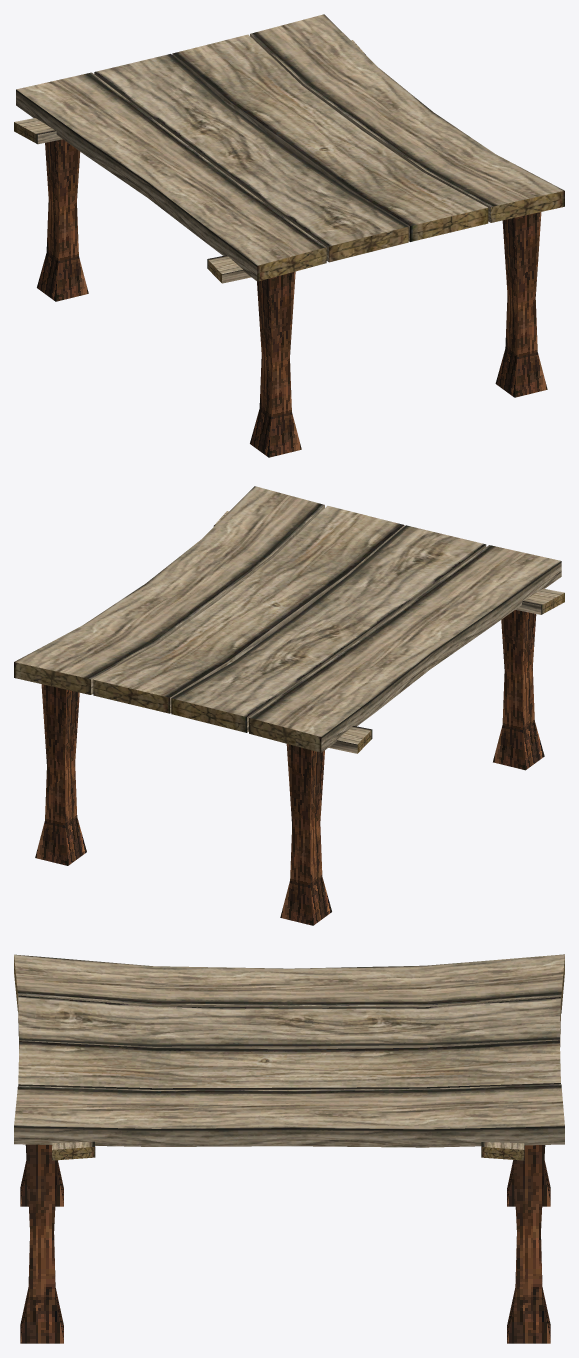
File: INST_LT_SM_TABLE.obj
3 renders of one model, top to bottom at view 1: azimuth 30°, elevation 25°; view 2: azimuth 150°, elevation 25°; view 3: azimuth 270°, elevation 25°, orthographic. The views are drawn at different scales.
Parts seen in each view (by area): view 1: _sm_table_LOD1_; view 2: _sm_table_LOD1_; view 3: _sm_table_LOD1_.
Boxes of the visible parts, x1,y1,x2,y2 form: _sm_table_LOD1_: (14, 14, 564, 457); _sm_table_LOD1_: (14, 486, 564, 925); _sm_table_LOD1_: (14, 954, 564, 1343).
Bounding box in the file's own units: 148 × 82.72 × 183.
